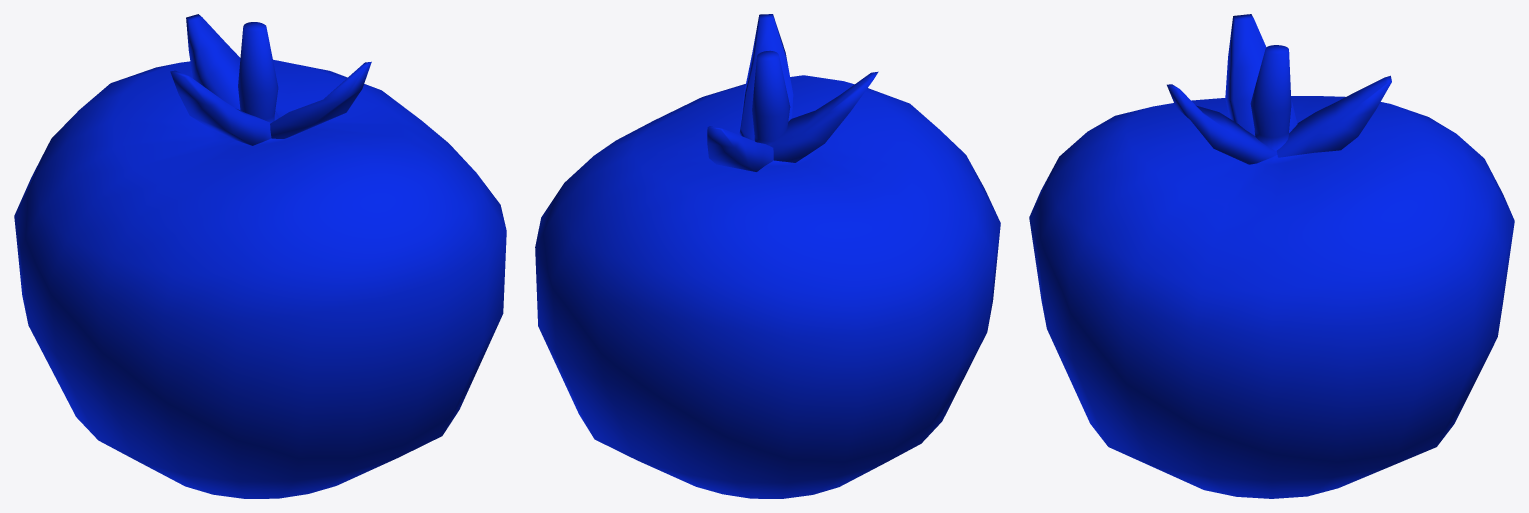
The model's file is S_Tomato.fbx.
3 views of the same model, side by side, from view 1: azimuth 30°, elevation 25°; view 2: azimuth 150°, elevation 25°; view 3: azimuth 270°, elevation 25° (orthographic). The views are drawn at different scales.
Parts seen in each view (by area): view 1: Cylinder.004_low; view 2: Cylinder.004_low; view 3: Cylinder.004_low.
Boxes of the visible parts, x1,y1,x2,y2 form: Cylinder.004_low: [14, 14, 506, 498]; Cylinder.004_low: [535, 14, 1000, 498]; Cylinder.004_low: [1029, 14, 1514, 498].
Size of the model in its own units: 0.1444 by 0.1444 by 0.1516.
